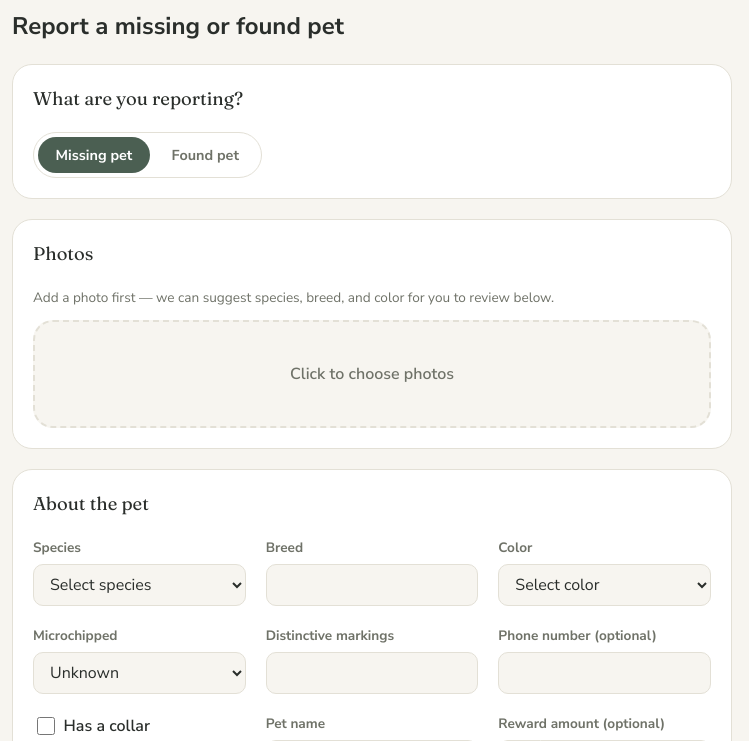
Test: choosing cat shows a breed dropdown of common cat breeds, with an Other free-text fallback
The width and height of the screenshot is (749, 741).
Select "Cat" in the dropdown labelled "Species" at (139, 585), box x1=33 y1=564 x2=246 y2=606
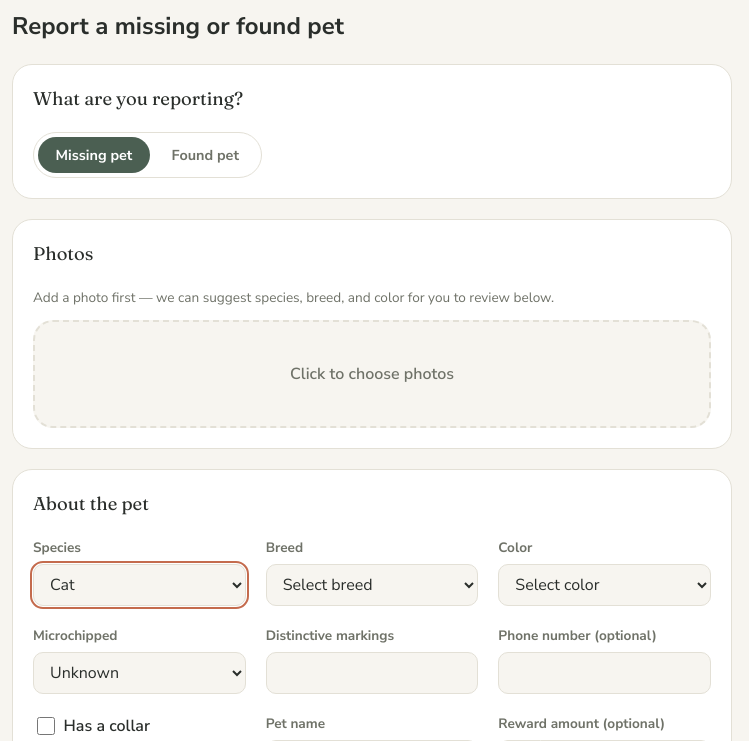
Select "Other" in the dropdown labelled "Breed" at (372, 585), box x1=266 y1=564 x2=478 y2=606
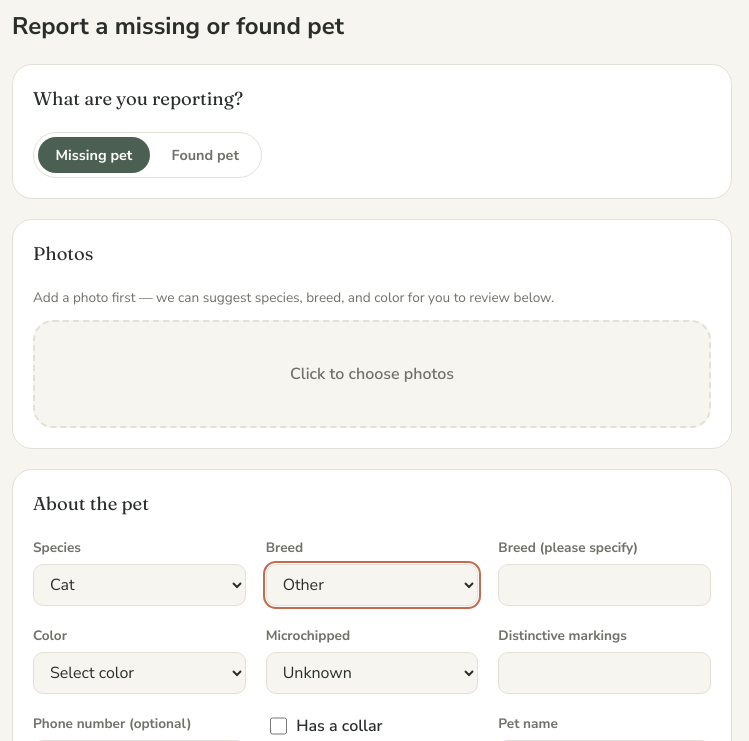
Expected: the field labelled "Breed (please specify)" is shown, x1=498 y1=564 x2=711 y2=606
